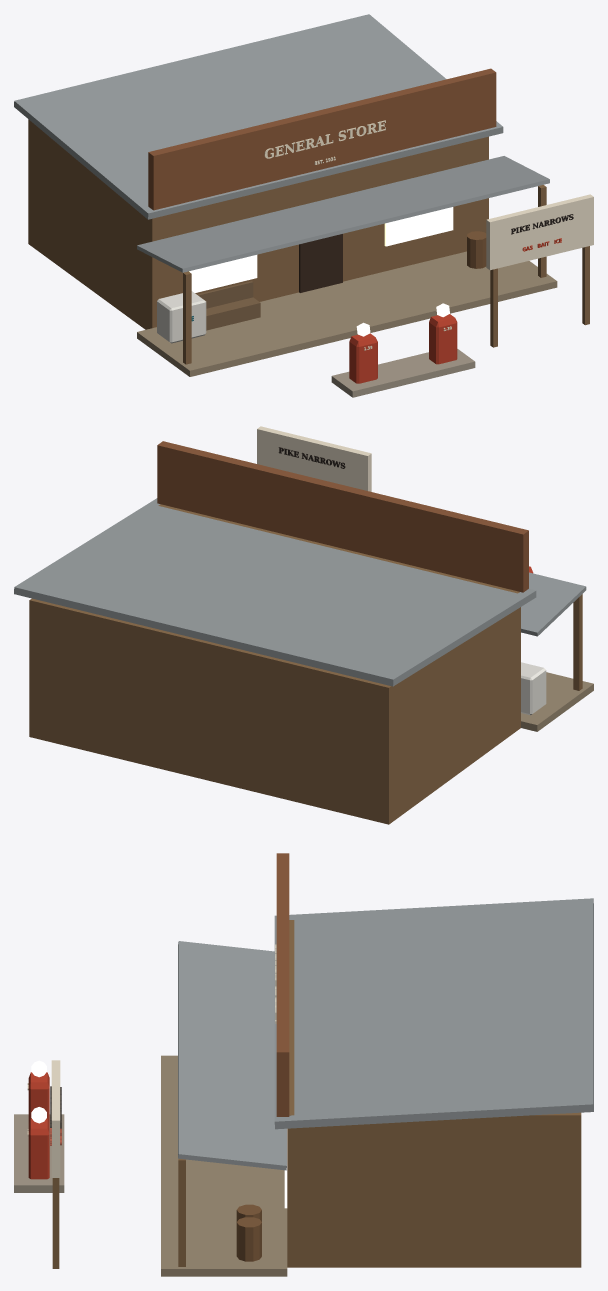
Rendered from general_store.glb.
The picture shows the model from 3 angles, top to bottom: view 1: azimuth 30°, elevation 25°; view 2: azimuth 150°, elevation 25°; view 3: azimuth 270°, elevation 25°; orthographic projection. The views are drawn at different scales.
Parts seen in each view (by area): view 1: general_store; view 2: general_store; view 3: general_store.
Boxes of the visible parts, <box> form: general_store: <box>14,14,593,397</box>; general_store: <box>14,426,593,824</box>; general_store: <box>14,853,593,1276</box>.
Size of the model in its own units: 12 by 5.7 by 13.8.
